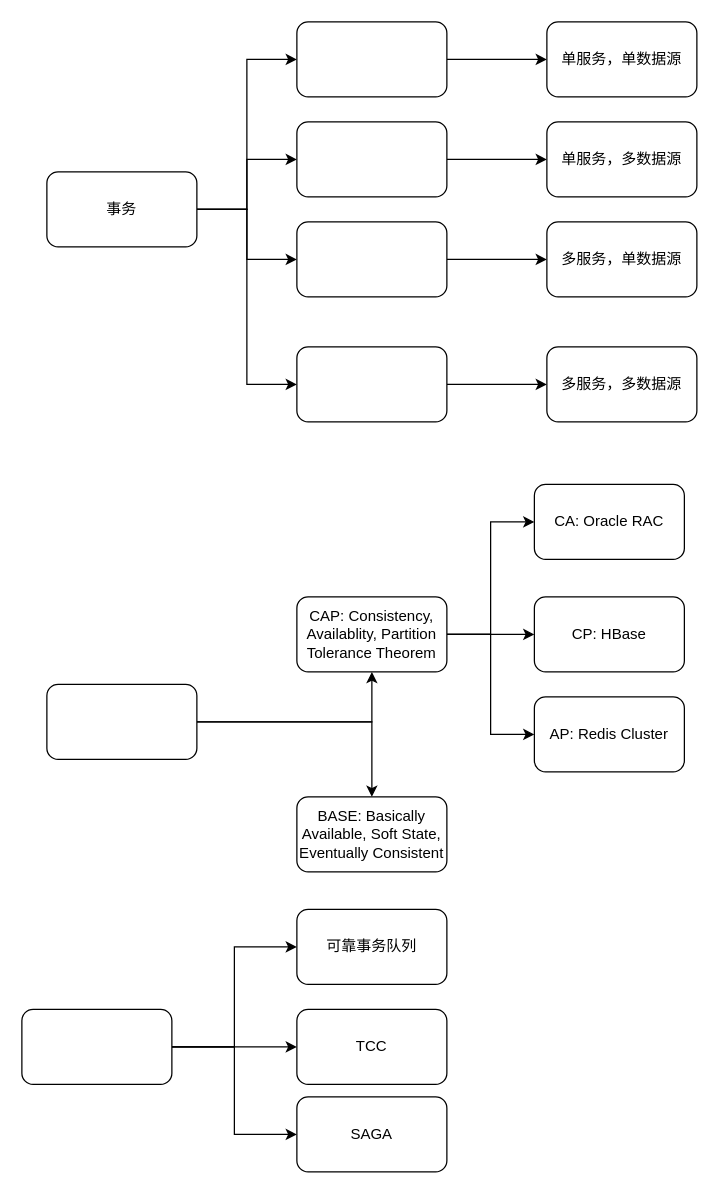
Image size: 719x1194. Some labels were removed from this diagram. Here are the shapes that lost their labels. From the top down, the box of each, then its label:
(296, 21, 447, 97): 本地事务
(296, 121, 447, 197): 全局事务
(296, 221, 447, 297): 共享事务
(296, 346, 447, 422): 分布式事务
(46, 683, 197, 759): 事务可靠性理论
(21, 1008, 172, 1084): 分布式事务解决办法
